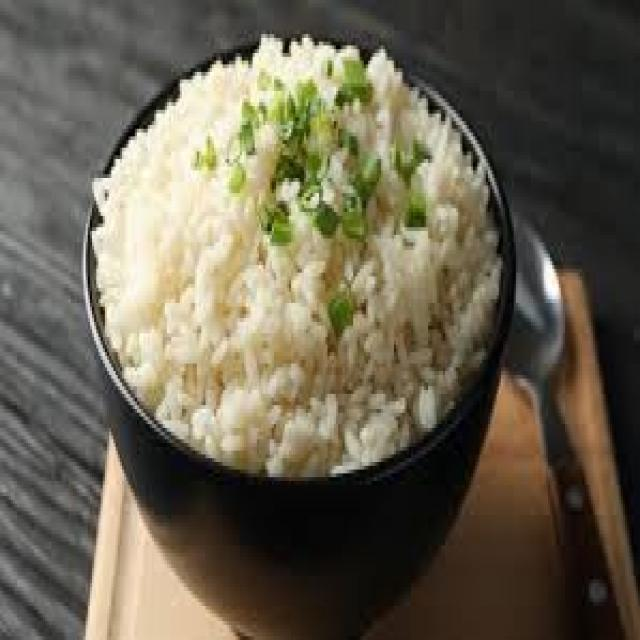White Rice: (86, 35, 509, 640)
